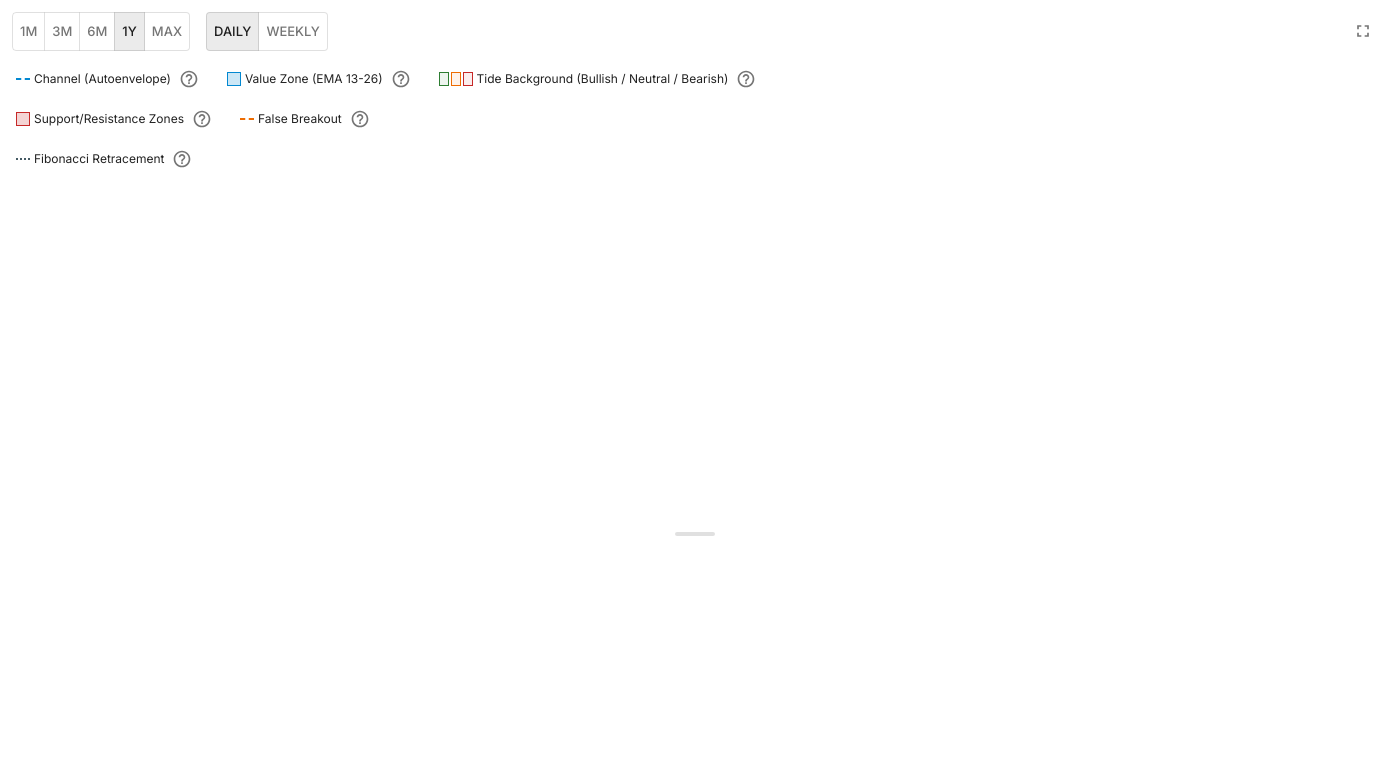
PriceChart › channel bands + value zone (frontend-channel-overlay) › opens the Value Zone MetricHelp balloon with the current EMA13-EMA26 bounds
Step 1. Click the button named "Value Zone (EMA 13-26) help" → (400, 79), box left=390, top=69, right=410, bottom=89
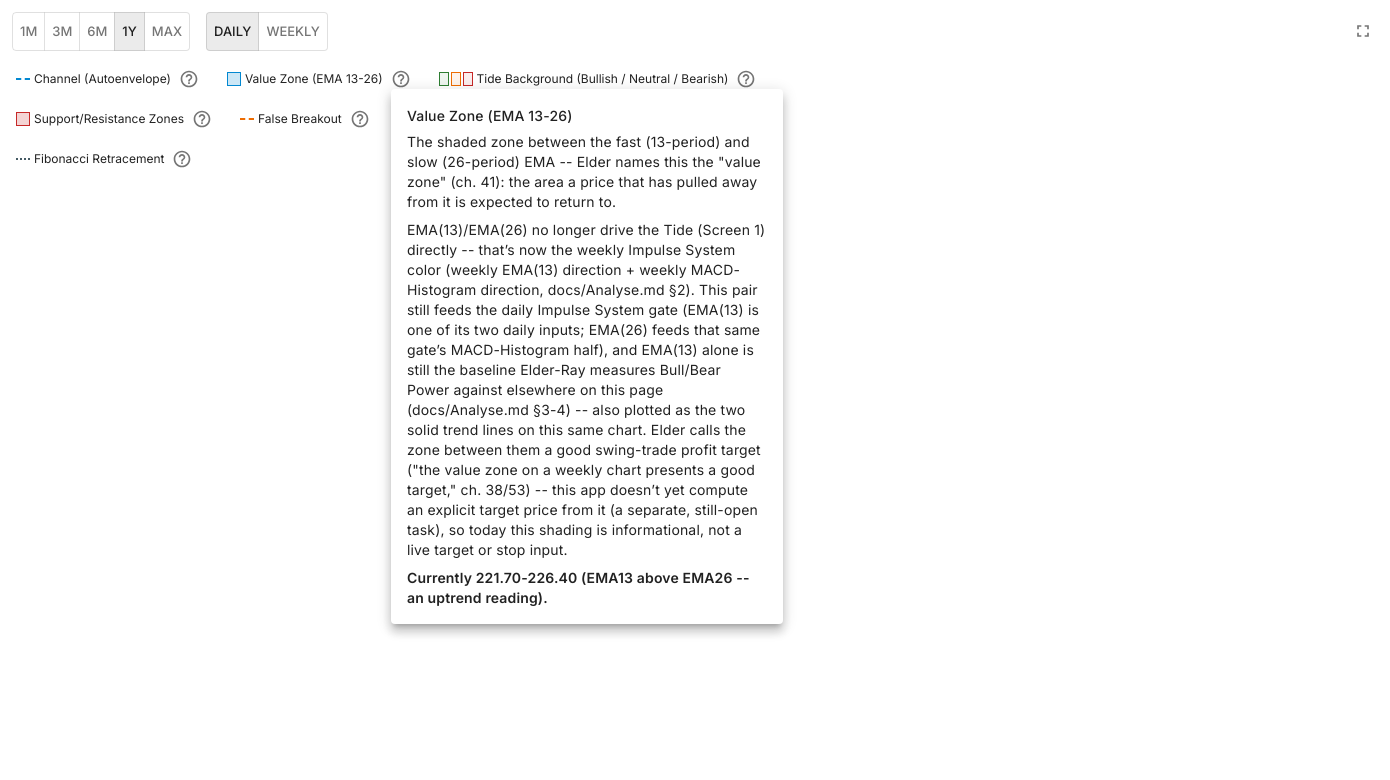
Expected: the text "221.70-226.40" is shown, left=407, top=569, right=750, bottom=606
